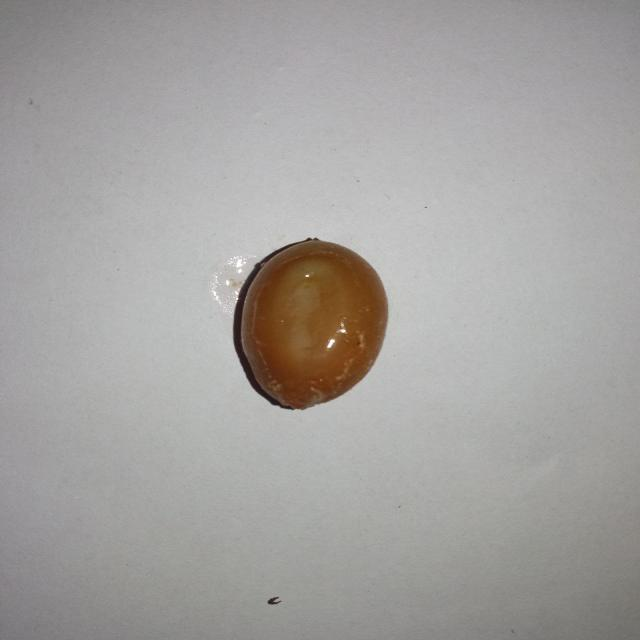rotten_grape: (233, 239, 388, 411)
